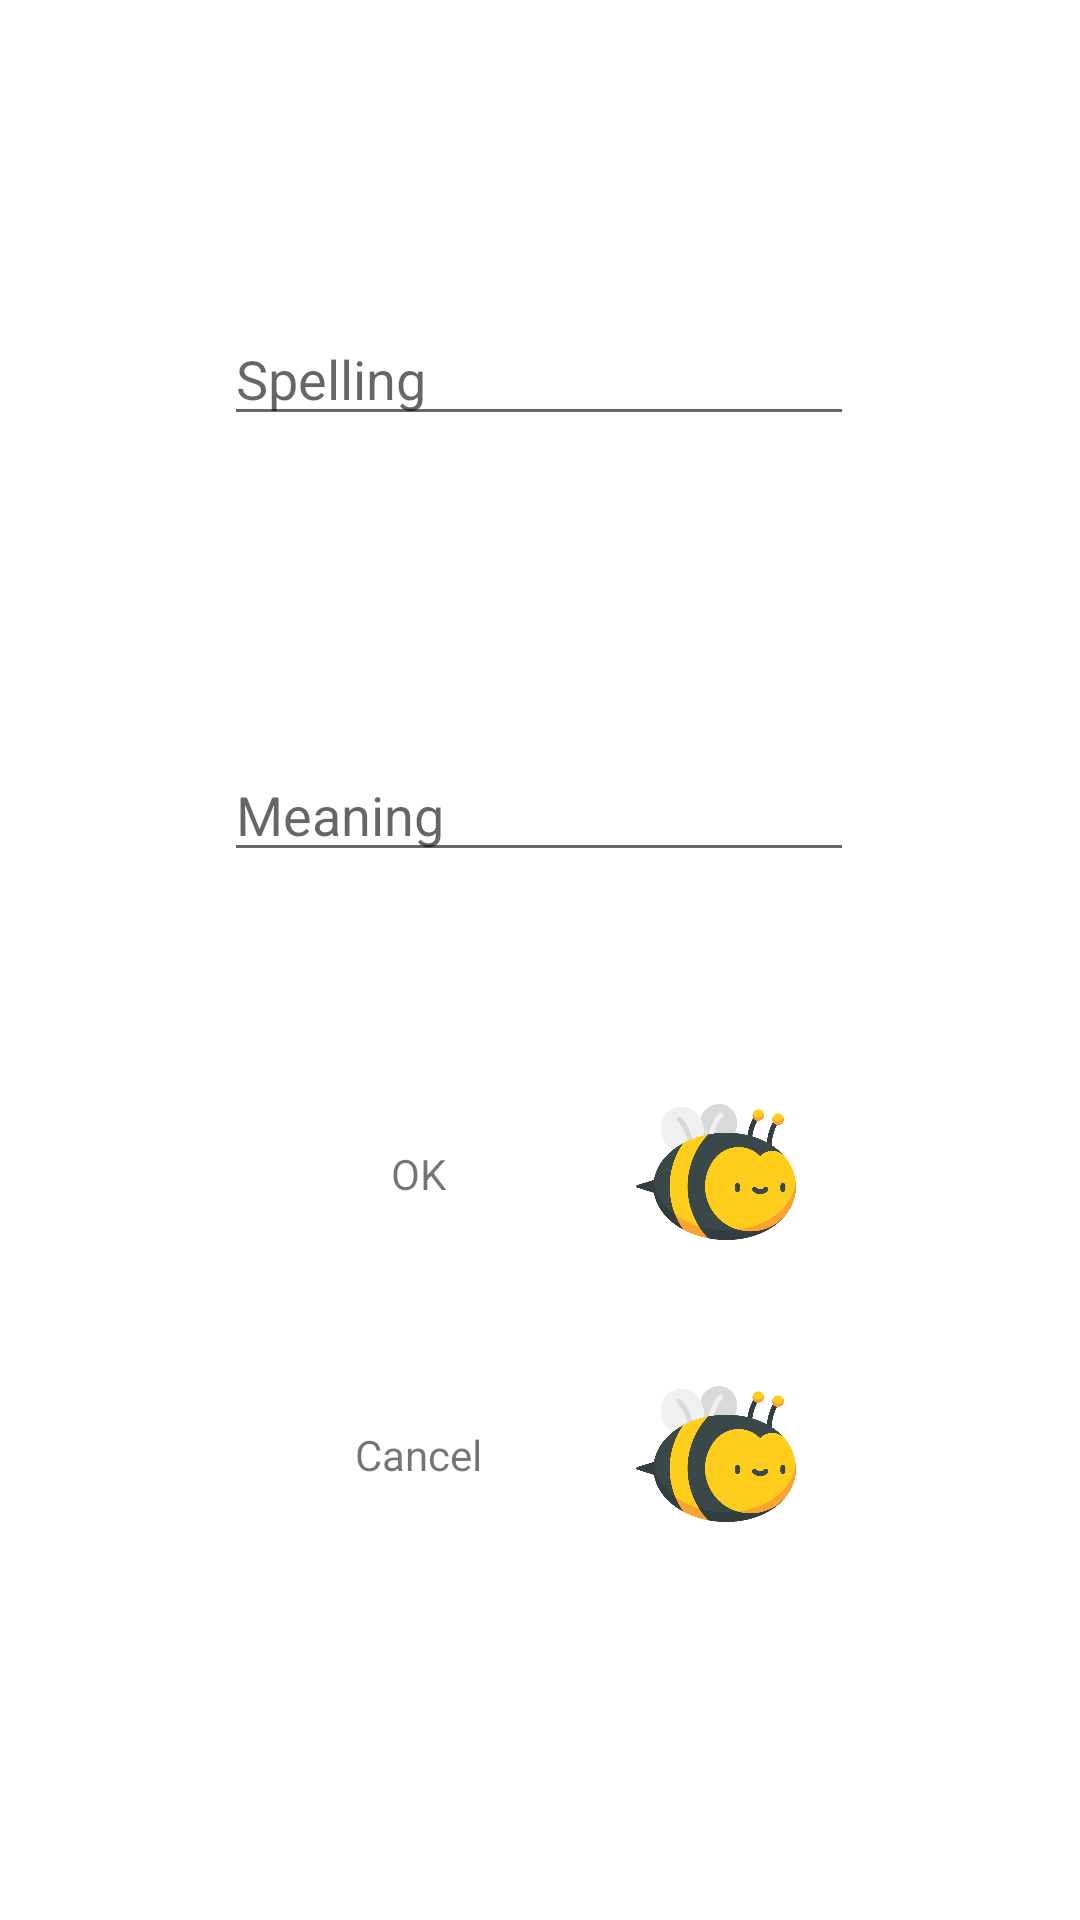

Screen size 1080×1920. Icon name, then its center in pixels as (x,y):
beee: (716,1172), (716,1454)
